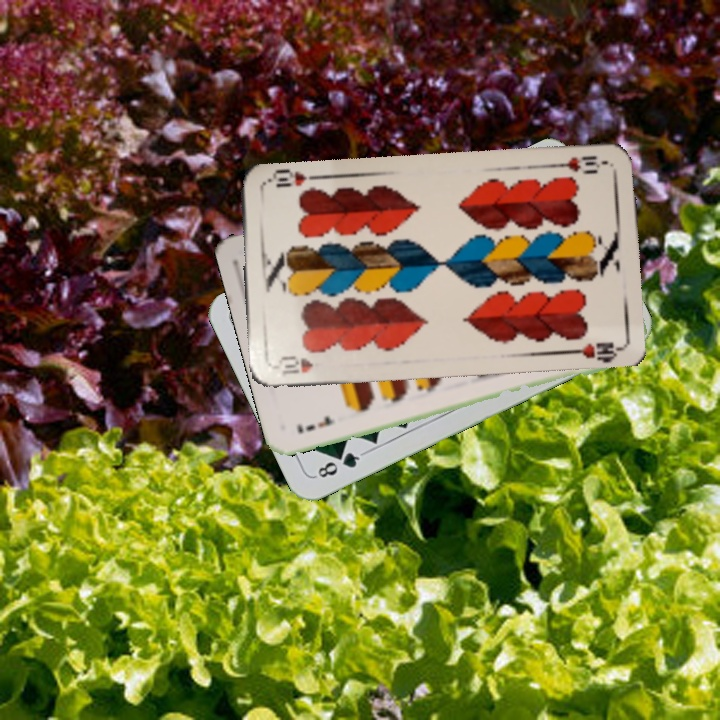E7: (293, 412, 338, 436)
G8: (311, 448, 366, 481)
H10: (550, 151, 609, 176), (272, 353, 315, 380)
